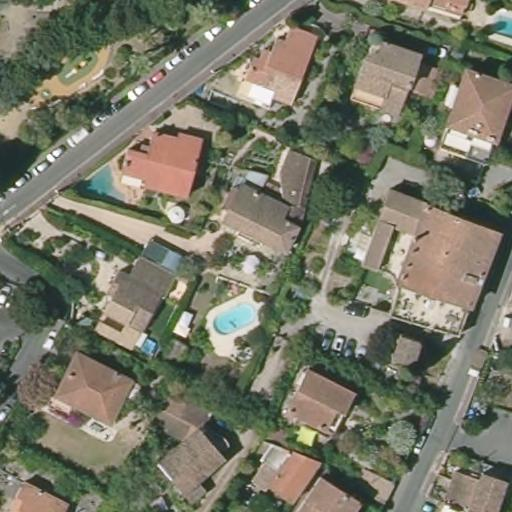pool: (73, 162, 138, 207), (211, 294, 258, 338), (482, 10, 511, 43), (141, 332, 161, 354)
